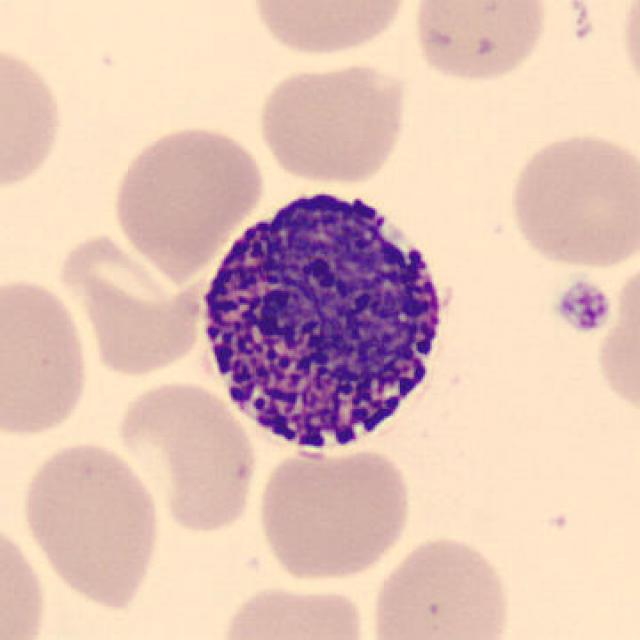Basophil: (187, 173, 468, 469)
Platelets: (553, 277, 613, 335)
RBC: (18, 437, 165, 612), (109, 120, 268, 275), (112, 376, 260, 536), (252, 442, 416, 584), (54, 228, 206, 379), (252, 55, 412, 187), (503, 127, 638, 273), (366, 530, 515, 640), (0, 272, 94, 442), (407, 0, 553, 86), (0, 38, 68, 195), (246, 0, 414, 60), (215, 578, 373, 640), (590, 263, 640, 423), (0, 515, 52, 640), (617, 0, 640, 104)
